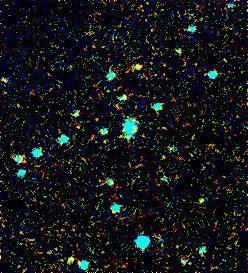star: (189, 187, 219, 217)
